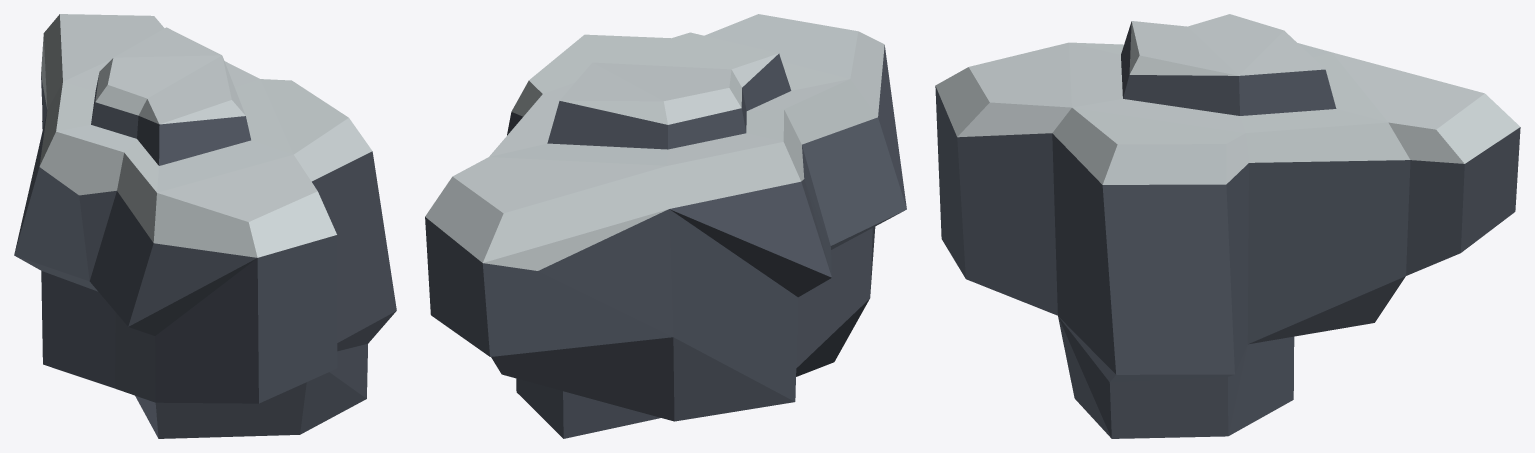
Rendered from SM_Env_Generic_Cliffs_05.fbx.
The picture shows the model from 3 angles, left to right: view 1: azimuth 30°, elevation 25°; view 2: azimuth 150°, elevation 25°; view 3: azimuth 270°, elevation 25°; orthographic projection. The views are drawn at different scales.
Visible parts, largest first — view 1: SM_Env_Generic_Cliffs_05; view 2: SM_Env_Generic_Cliffs_05; view 3: SM_Env_Generic_Cliffs_05.
Part boxes in pixels (bbox=[...]): SM_Env_Generic_Cliffs_05: bbox=[14, 14, 396, 438]; SM_Env_Generic_Cliffs_05: bbox=[425, 14, 906, 438]; SM_Env_Generic_Cliffs_05: bbox=[935, 14, 1520, 438].
Bounding box in the file's own units: 78.01 × 73.69 × 119.
Materials: 1 (1 with a texture image).
